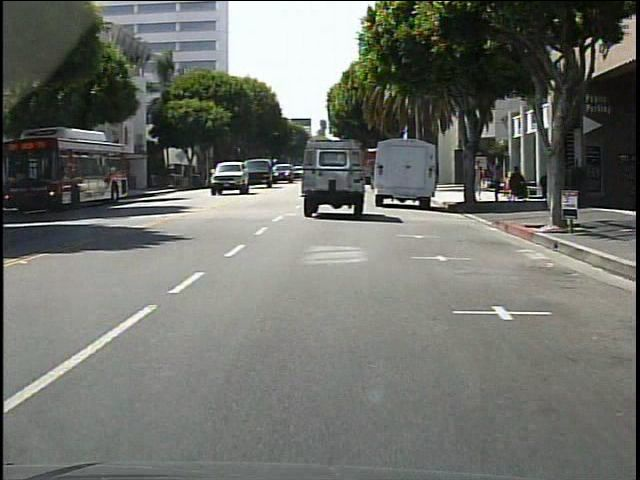person: (471, 159, 486, 204), (492, 164, 506, 203)
